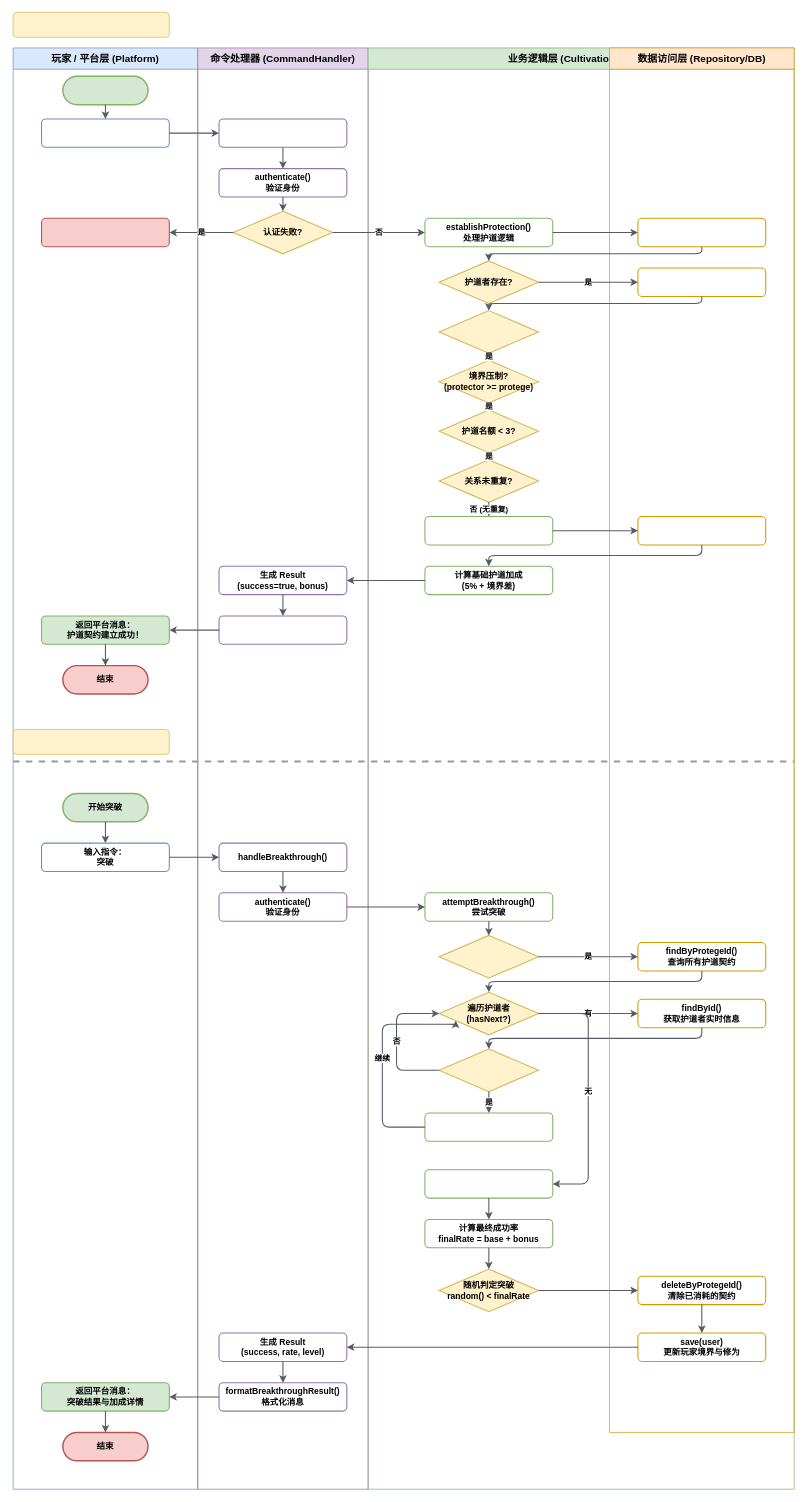
Image size: 807x1502. Some labels were removed from this diagram. Each missing label, with the centre of its shape:
"DaoProtection.create() 创建关系实体" goes at [488,530].
"findById() 查询护道者" goes at [701,232].
"findByNickname() 查询被护道者" goes at [701,282].
"formatProtectionResult() 格式化消息" goes at [282,630].
"handleEstablishProtection()" goes at [282,133].
"save(protection) 保存至数据库" goes at [701,530].
"【流程一】建立护道契约" goes at [90,24].
"【流程二】突破护道加成" goes at [90,741].
"修为充足? (exp >= req)" goes at [488,956].
"加成上限截断 Math.min(20%, bonus)" goes at [488,1183].
"同地点? isInSameLocation()" goes at [488,1070].
"开始护道" goes at [105,90].
"累加单人护道加成 totalBonus" goes at [488,1127].
"被护道者存在?" goes at [488,331].
"输入指令： 护道 [道号]" goes at [105,133].
"返回错误消息" goes at [105,232].
